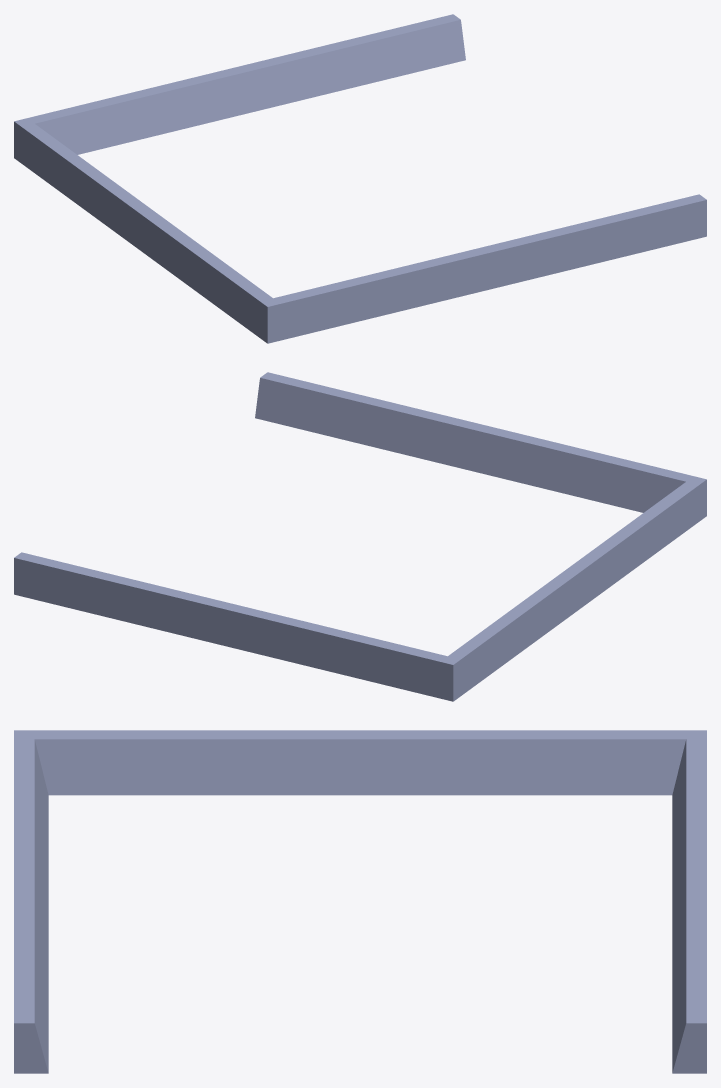
The model's file is road-end-barrier.glb.
The picture shows the model from 3 angles, top to bottom: view 1: azimuth 30°, elevation 25°; view 2: azimuth 150°, elevation 25°; view 3: azimuth 270°, elevation 25°; orthographic projection. The views are drawn at different scales.
Visible parts, largest first — view 1: road-end-barrier; view 2: road-end-barrier; view 3: road-end-barrier.
Part boxes in pixels (box(x1,y1,x2,y2)): road-end-barrier: box(14, 14, 706, 343); road-end-barrier: box(14, 372, 706, 701); road-end-barrier: box(14, 730, 706, 1073).
Bounding box in the file's own units: 1 × 0.08 × 1.
1 material, 1 textured.
